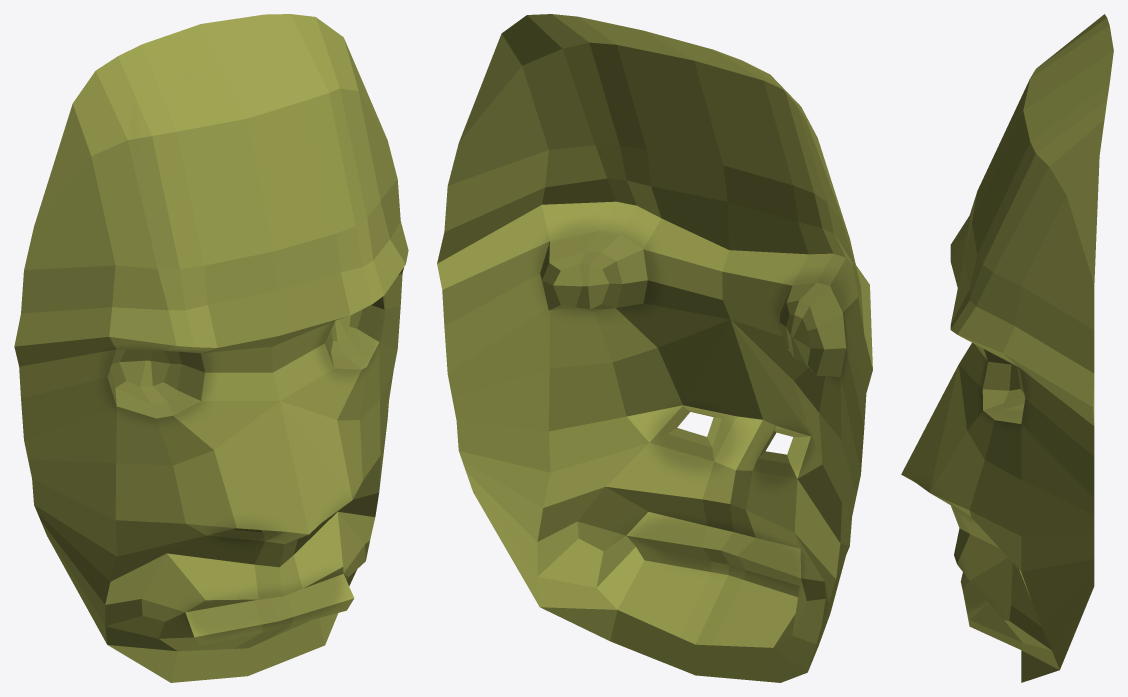
Rendered from MASCARA 1.fbx.
3 renders of one model, left to right at view 1: azimuth 30°, elevation 25°; view 2: azimuth 150°, elevation 25°; view 3: azimuth 270°, elevation 25°, orthographic. The views are drawn at different scales.
Parts seen in each view (by area): view 1: Plane; view 2: Plane; view 3: Plane.
Part boxes in pixels (x1=…): Plane: x1=14, y1=14, x2=408, y2=682; Plane: x1=437, y1=14, x2=872, y2=682; Plane: x1=901, y1=14, x2=1113, y2=682.
Size of the model in its own units: 1173 by 1756 by 558.
1 material, 1 textured.
